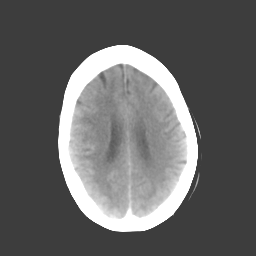ischemic: (94, 121, 109, 150)
